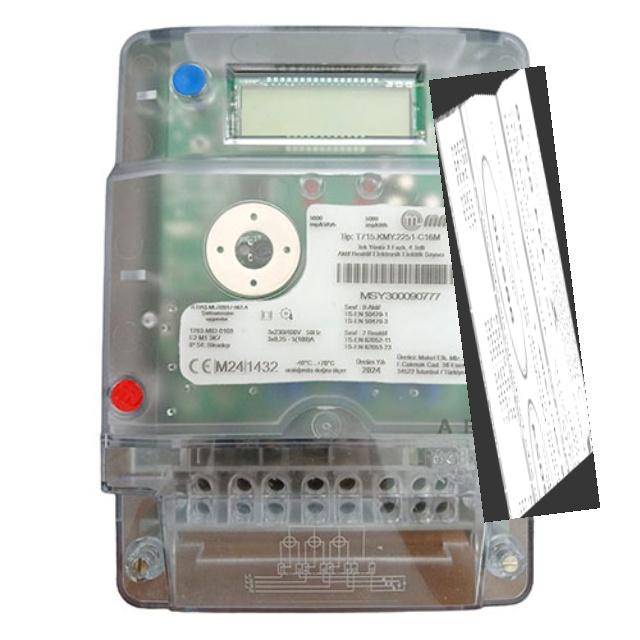electricity-bill: (428, 65, 600, 523)
